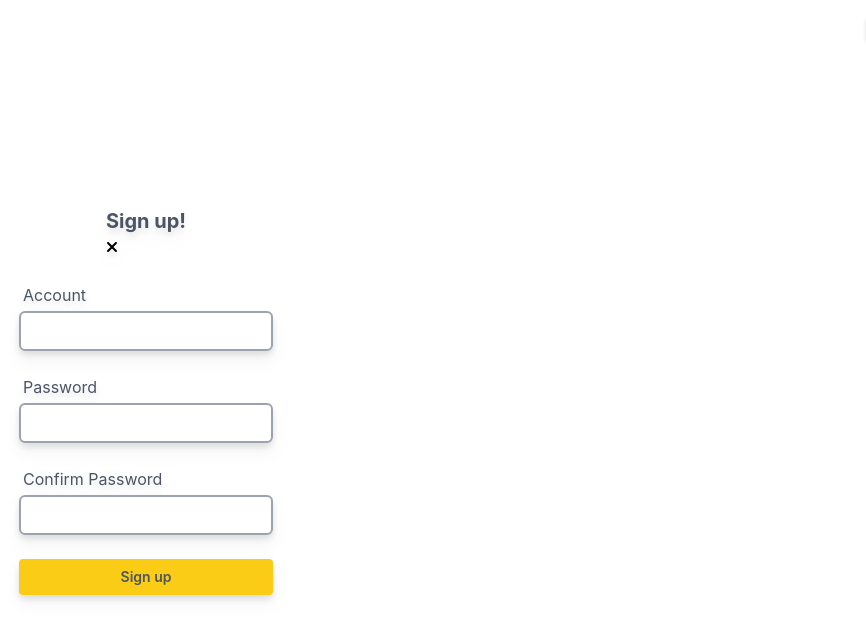
Test: SignUpPopup component › password must be the same as confirmation password
This screenshot has width=866, height=619.
Type "root" into the field labelled "Account" at (146, 331), box [19, 311, 273, 351]
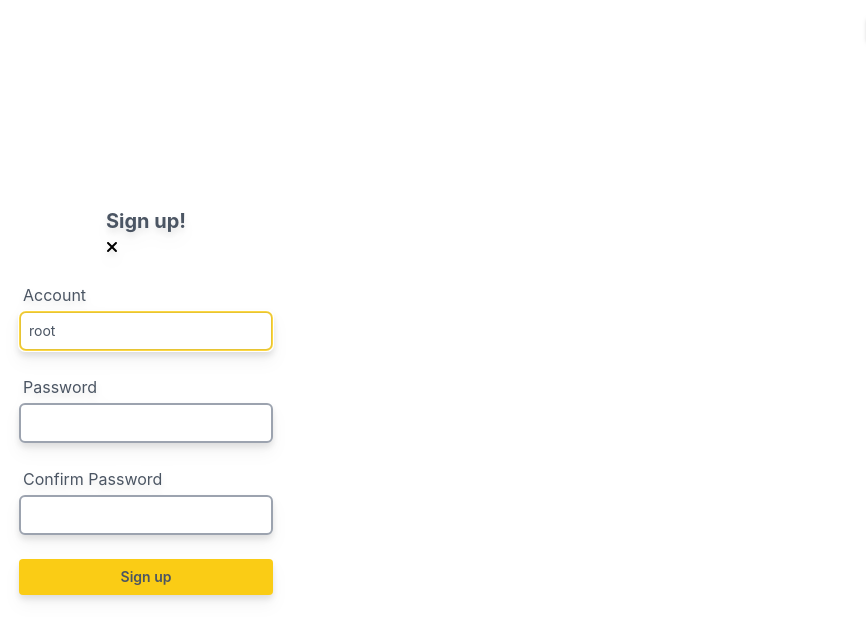
Type "123" into the password field labelled "Password" at (146, 423), box [19, 403, 273, 443]
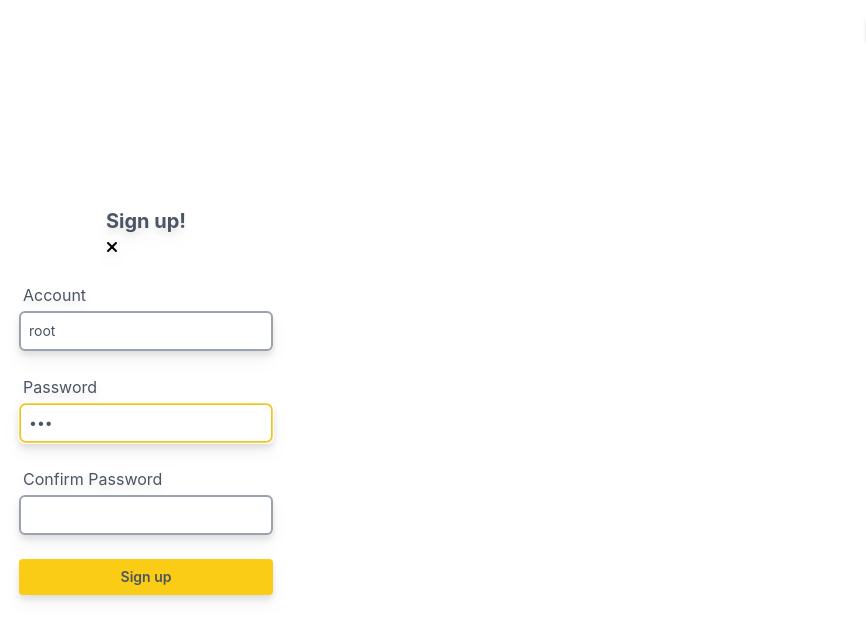
Type "1234" into the password field labelled "Confirm Password" at (146, 515), box [19, 495, 273, 535]
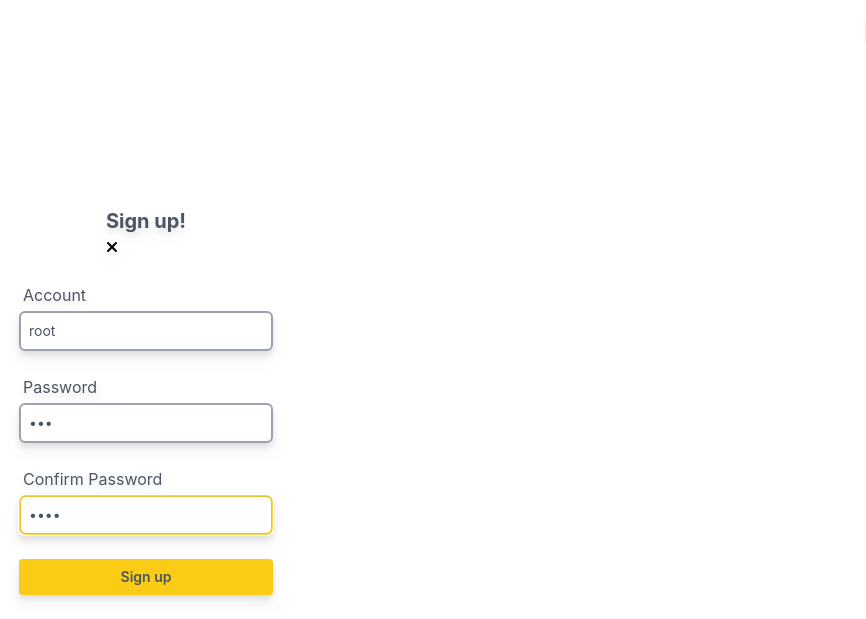
Click the button "Sign up" at (146, 577), box [19, 559, 273, 595]
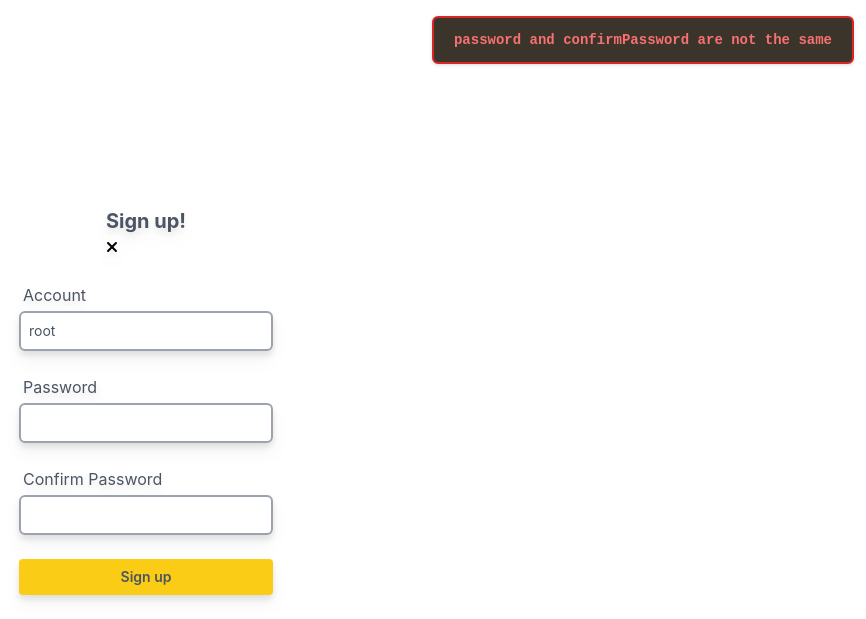
Result: the text "password and confirmPassword are not the same" is shown at [454, 30, 832, 50]
